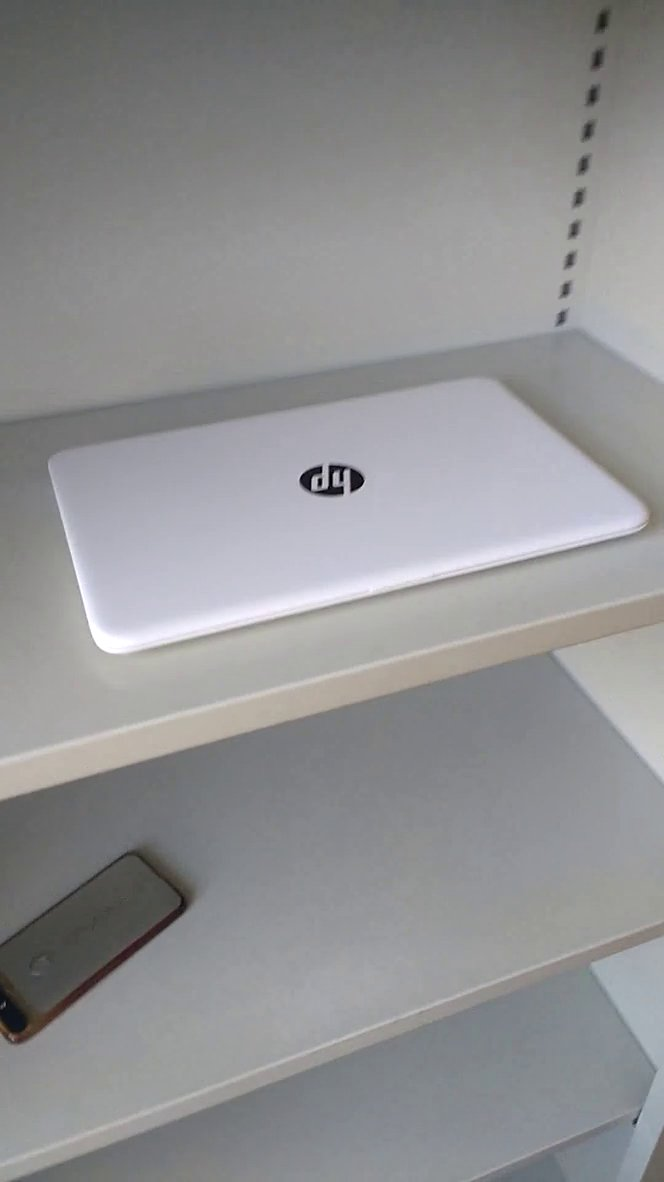laptop: (32, 363, 664, 690)
phone: (1, 835, 196, 1056)
